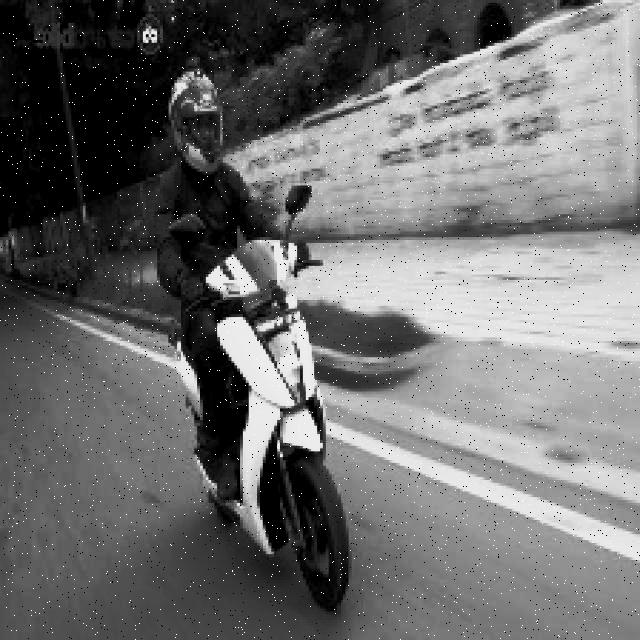Bike: (165, 246, 365, 634)
